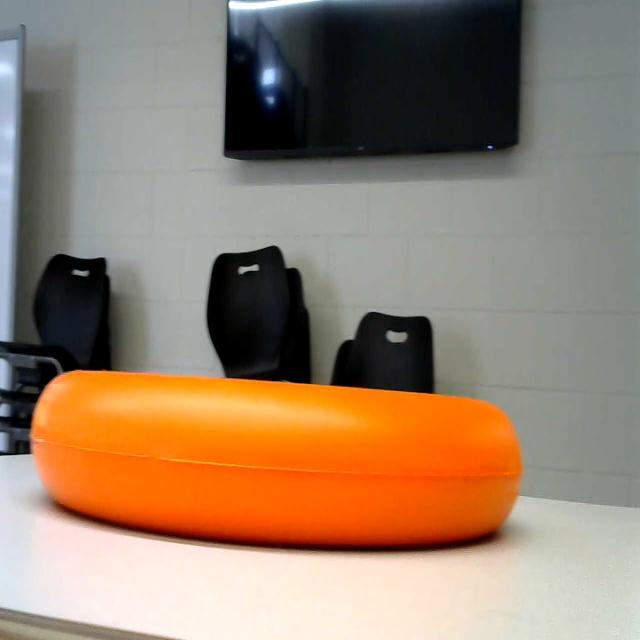note: (26, 358, 538, 556)
